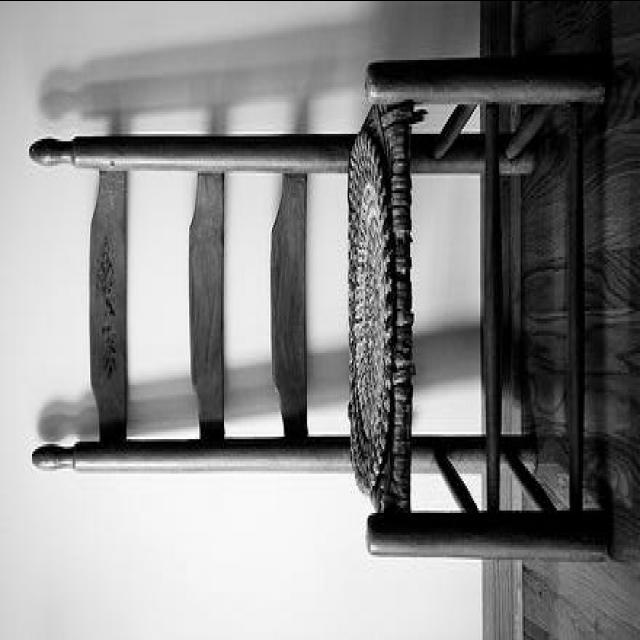chair: (29, 62, 627, 567)
